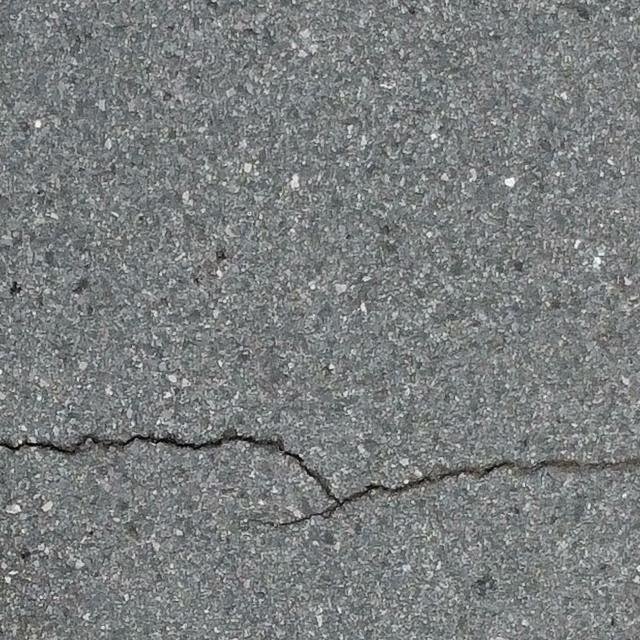TransverseCrack: (1, 430, 640, 526)
